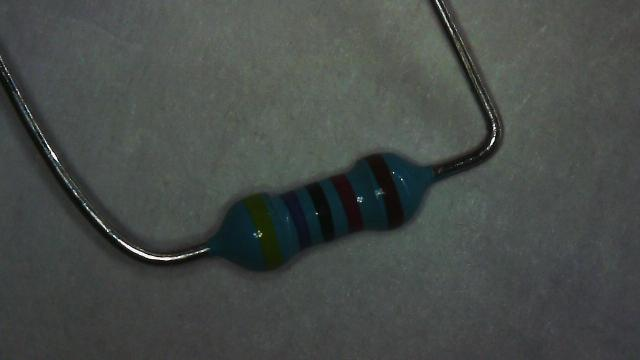black: (306, 182, 334, 242)
brown: (365, 154, 402, 228)
red: (330, 174, 362, 232)
resistor: (200, 142, 449, 280)
violet: (281, 190, 312, 248)
yellow: (243, 194, 283, 269)
